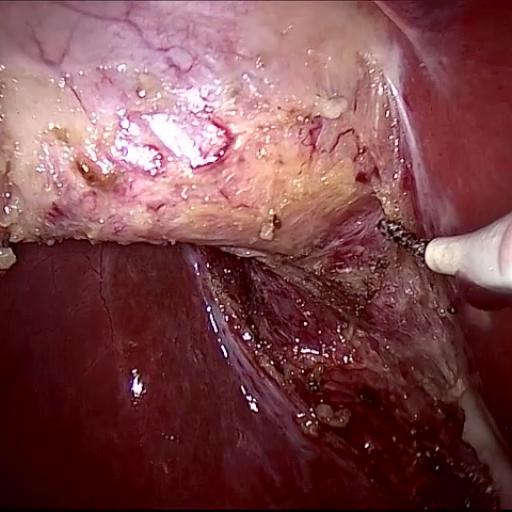Hook: (366, 173, 512, 309)
